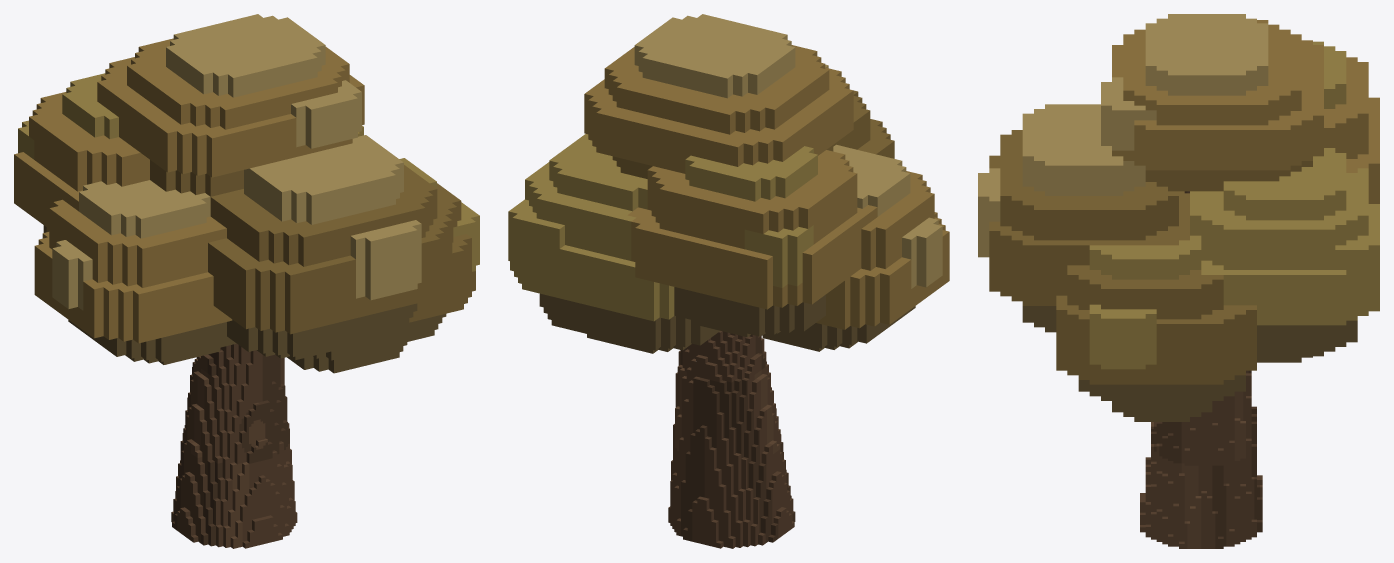
The model's file is apple_mature_autumn_2.glb.
The picture shows the model from 3 angles, left to right: view 1: azimuth 30°, elevation 25°; view 2: azimuth 150°, elevation 25°; view 3: azimuth 270°, elevation 25°; orthographic projection. The views are drawn at different scales.
Visible parts, largest first — view 1: VoxelVisual; view 2: VoxelVisual; view 3: VoxelVisual.
Part boxes in pixels (left/top/right/bottom): VoxelVisual: left=14, top=14, right=479, bottom=548; VoxelVisual: left=508, top=14, right=949, bottom=548; VoxelVisual: left=978, top=14, right=1379, bottom=548.
Size of what is drawn, in the model's own units: 10.25 by 12 by 9.
